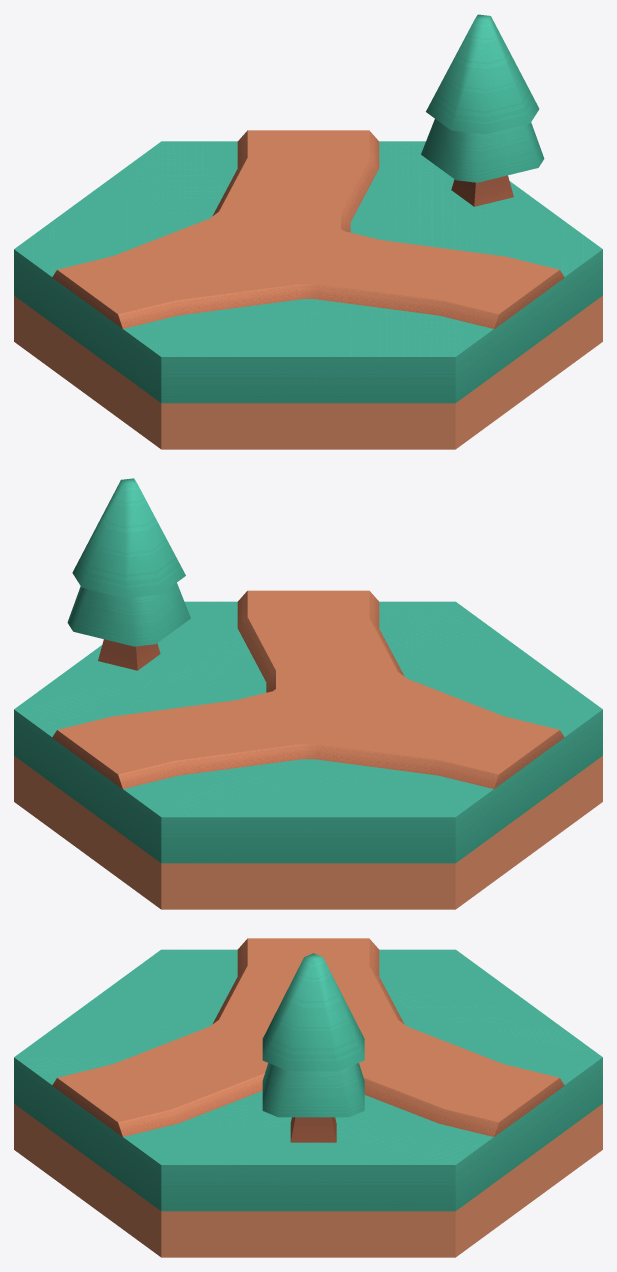
Rendered from grass-path-intersectionF-tree.glb.
3 views of the same model, one above another, from view 1: azimuth 30°, elevation 25°; view 2: azimuth 150°, elevation 25°; view 3: azimuth 270°, elevation 25° (orthographic).
Parts seen in each view (by area): view 1: grass, path-intersectionF, unit-tree; view 2: grass, path-intersectionF, unit-tree; view 3: grass, path-intersectionF, unit-tree.
Boxes of the visible parts, x1,y1,x2,y2 form: grass: (14, 141, 602, 449); path-intersectionF: (52, 130, 564, 328); unit-tree: (421, 14, 544, 206); grass: (14, 601, 602, 909); path-intersectionF: (52, 590, 564, 789); unit-tree: (67, 478, 190, 670); grass: (14, 949, 602, 1257); path-intersectionF: (52, 938, 564, 1137); unit-tree: (262, 953, 364, 1142).
Bounding box in the file's own units: 1 × 0.603 × 1.15.
Materials: 1 (1 with a texture image).
